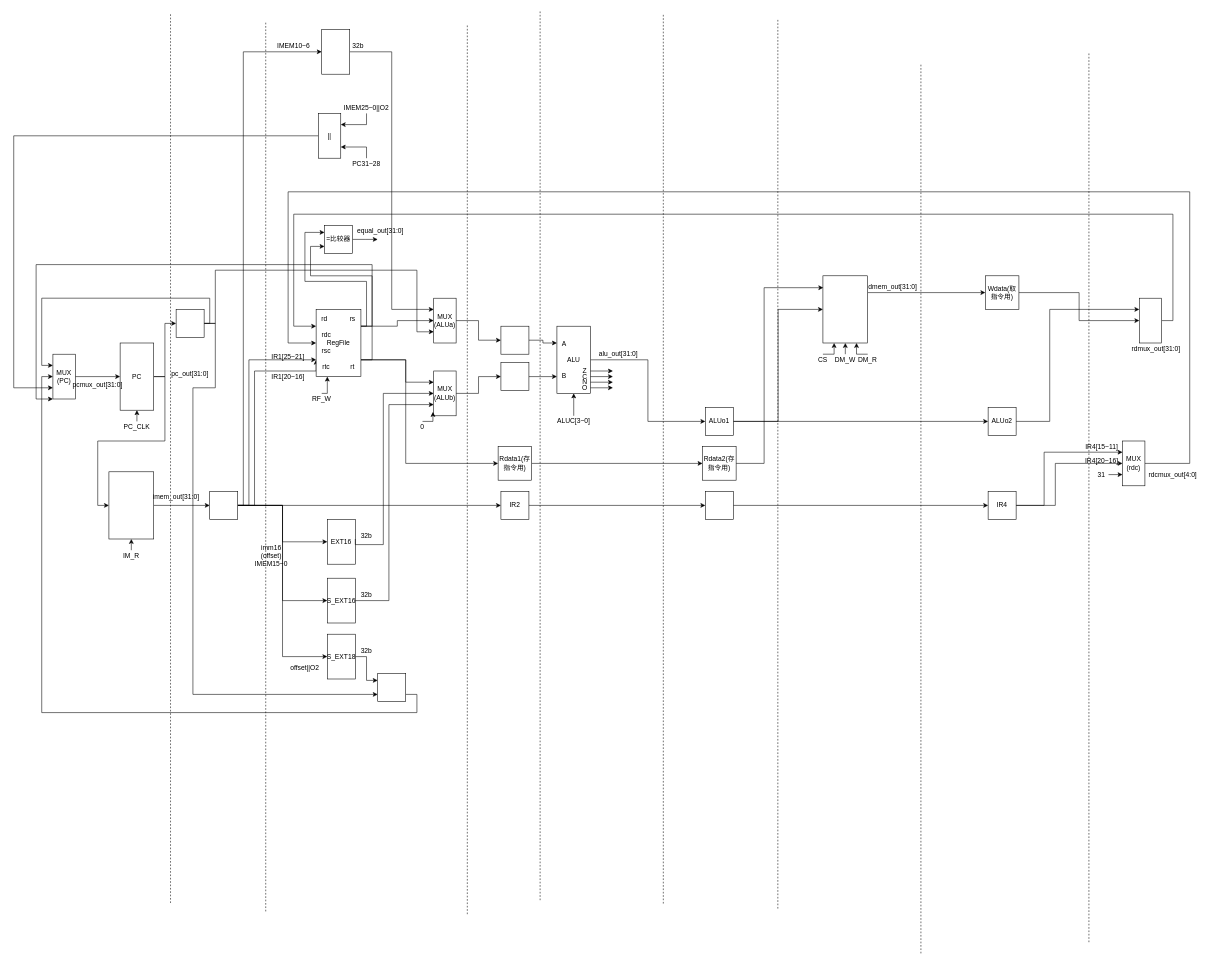
This 1207x964 diagram has some shape labels left out. The shapes that lost their labels are listed below. From the top down, each one's centre as x and y in pixels, then its label:
At pixel 335 51: "EXT5".
At pixel 190 323: "NPC".
At pixel 845 309: "iData oData Address DMEM".
At pixel 1150 320: "MUX (rd)".
At pixel 514 340: "ALUa".
At pixel 514 376: "ALUb".
At pixel 131 505: "0 IMEM 31".
At pixel 223 505: "IR1".
At pixel 719 505: "IR3".
At pixel 391 687: "ADD".
